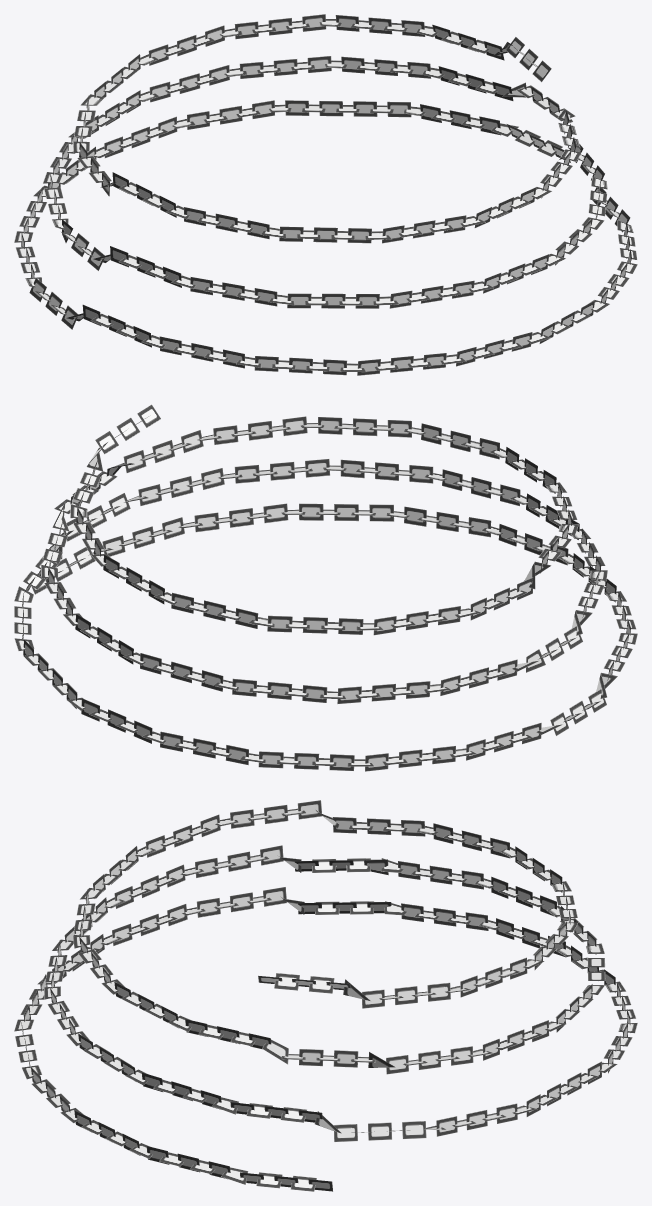
Rendered from kusari_toguro.FBX.
3 renders of one model, top to bottom at view 1: azimuth 30°, elevation 25°; view 2: azimuth 150°, elevation 25°; view 3: azimuth 270°, elevation 25°, orthographic. The views are drawn at different scales.
Visible parts, largest first — view 1: chain; view 2: chain; view 3: chain.
Part boxes in pixels (left/top/right/bottom): chain: left=14, top=14, right=637, bottom=375; chain: left=14, top=404, right=637, bottom=771; chain: left=14, top=800, right=637, bottom=1191.
Bounding box in the file's own units: 133 × 40.86 × 130.
